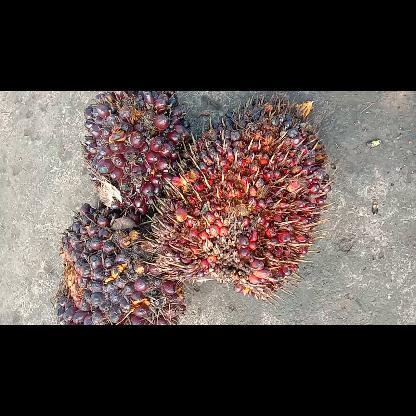Kurang masak: (57, 202, 183, 324), (82, 91, 192, 216)
TBS masak: (158, 98, 332, 294)
